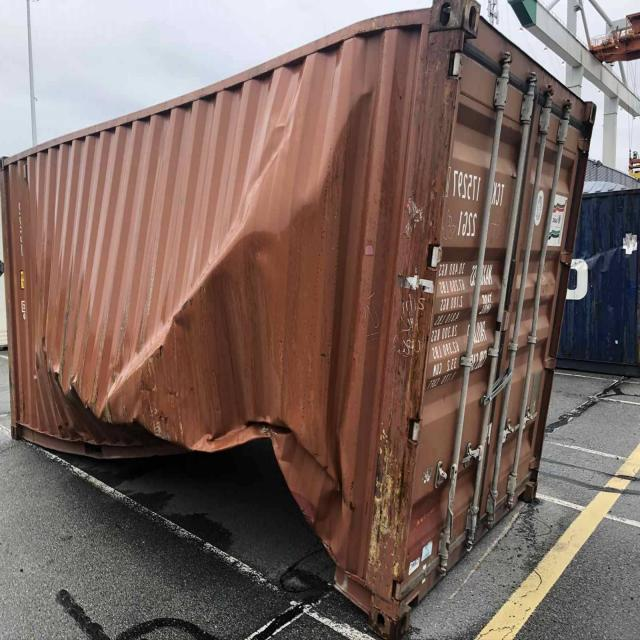dent: (1, 123, 472, 608)
